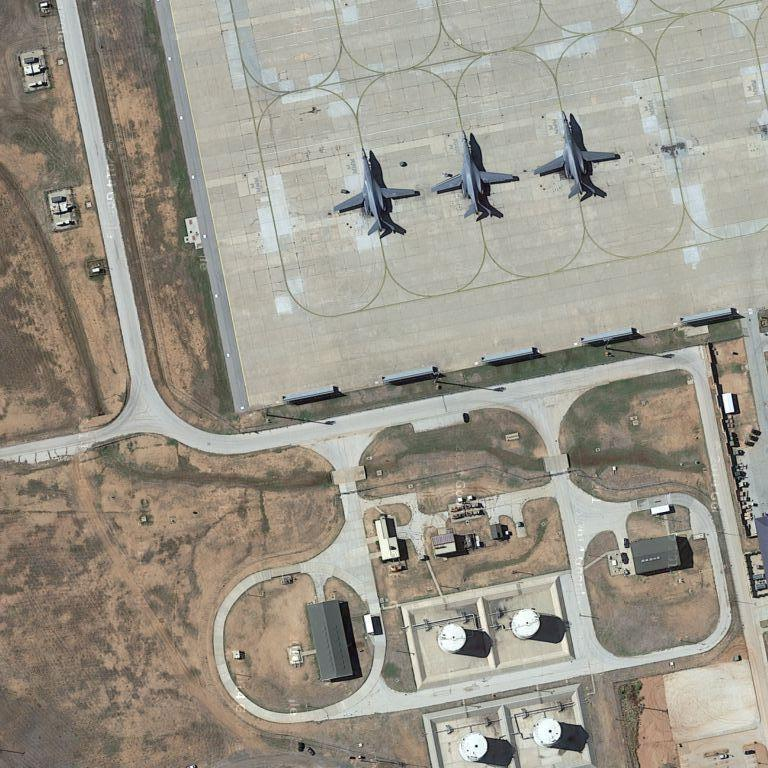B-1B: (330, 141, 422, 241), (432, 125, 520, 223), (532, 108, 623, 201)
